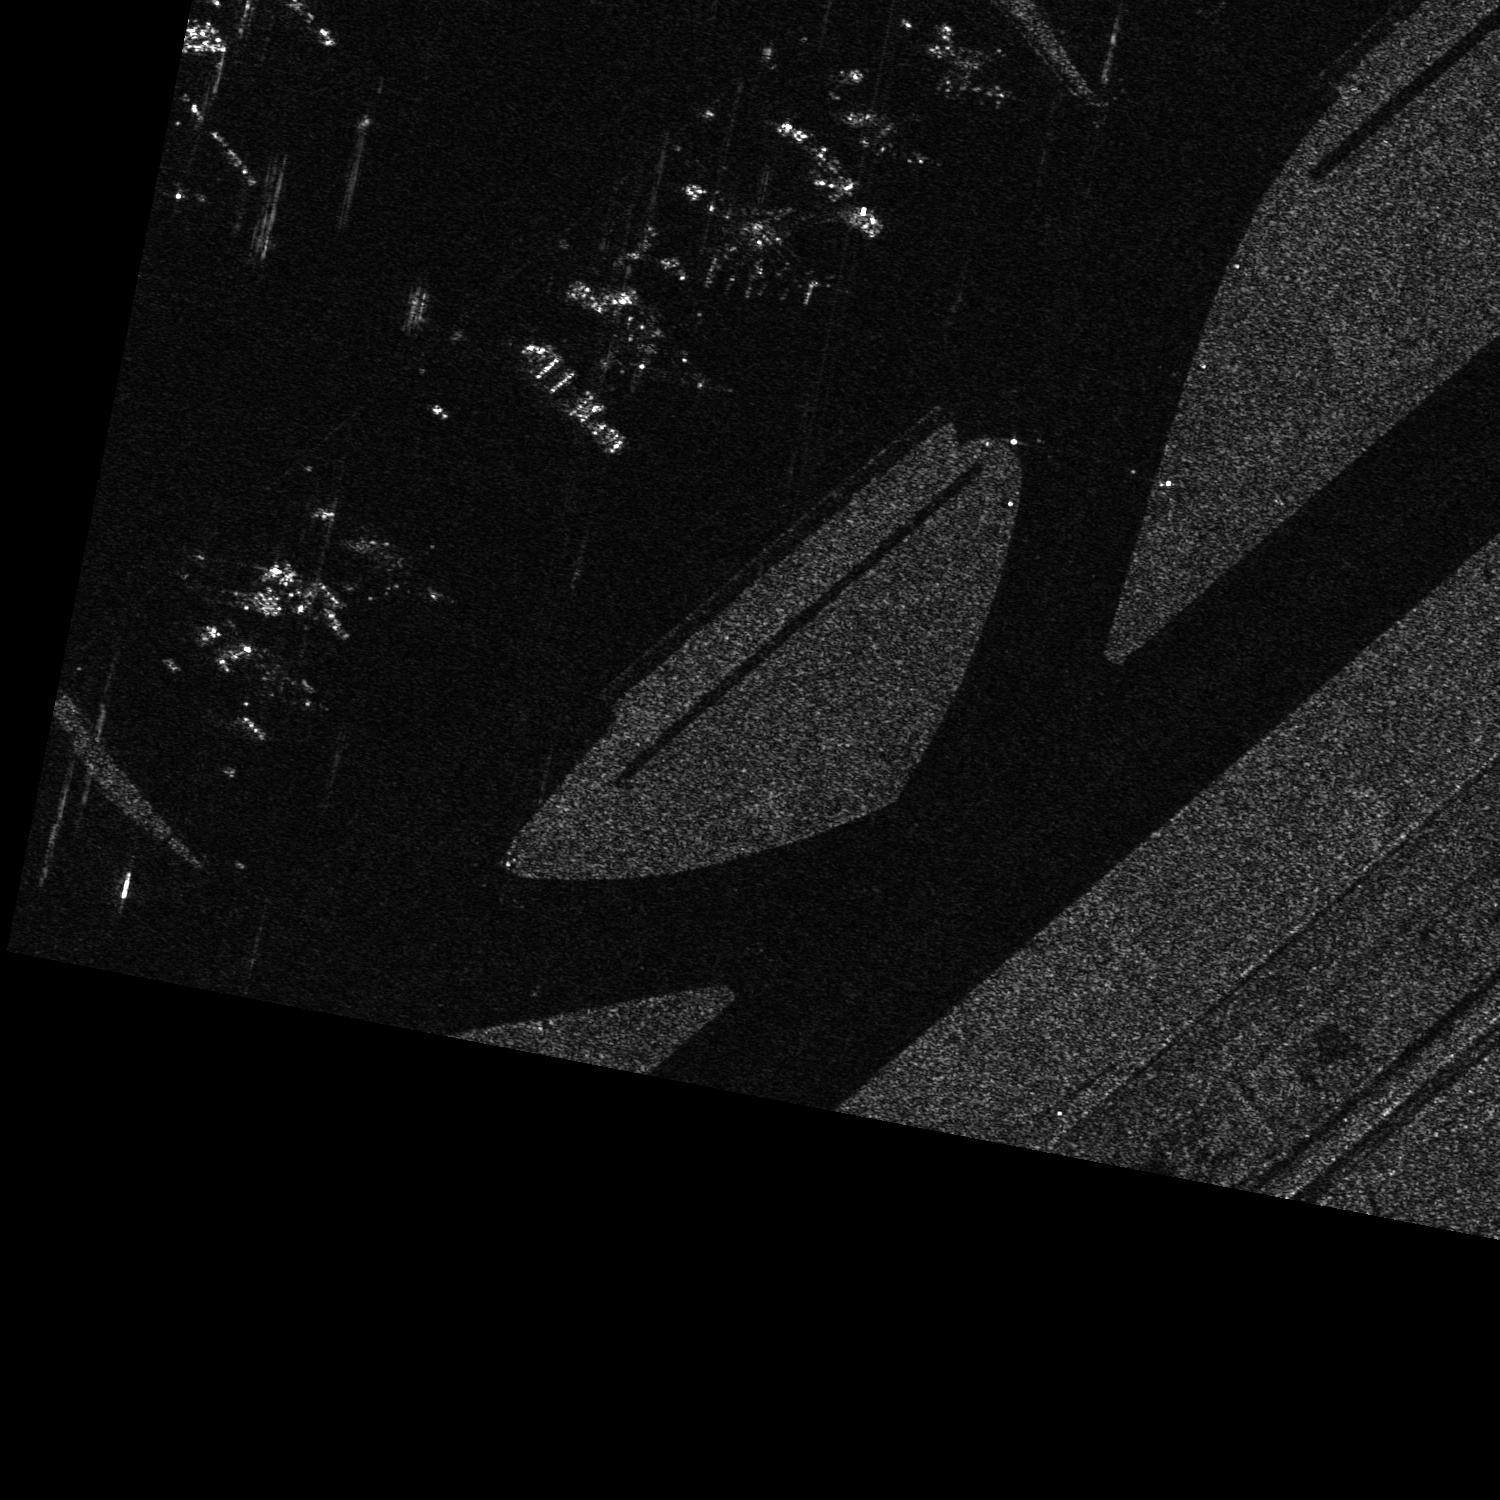Boeing737: (927, 29, 1016, 115), (843, 100, 929, 177)
other: (574, 269, 728, 400), (676, 177, 817, 301)
